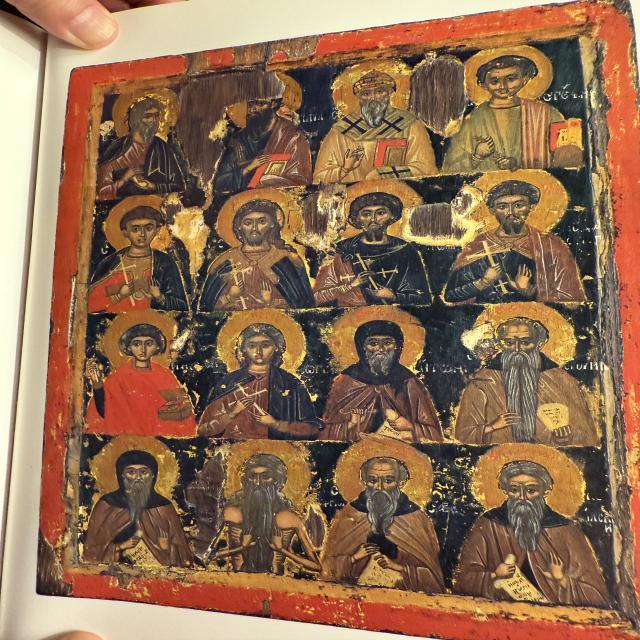aura: (472, 442, 586, 522), (327, 439, 441, 516), (467, 170, 569, 236), (331, 306, 429, 372), (477, 304, 576, 369), (214, 311, 310, 375), (91, 438, 183, 504), (223, 440, 312, 505), (465, 47, 555, 108), (101, 309, 185, 371), (341, 182, 425, 240), (218, 191, 305, 245), (333, 56, 413, 112), (103, 197, 177, 254), (110, 87, 179, 140)
book: (538, 119, 590, 155), (245, 156, 293, 191), (151, 386, 195, 423), (370, 136, 413, 172)
saint: (455, 444, 609, 608), (456, 303, 604, 445), (330, 441, 448, 593), (459, 171, 583, 299), (328, 309, 446, 441), (206, 305, 322, 438), (203, 441, 318, 575), (79, 435, 192, 565), (452, 50, 576, 165), (87, 310, 199, 433), (328, 182, 432, 302), (208, 191, 315, 307), (326, 63, 434, 176), (92, 197, 195, 309), (214, 74, 314, 184), (99, 84, 194, 192)
scroll: (492, 550, 550, 604), (353, 548, 407, 592), (117, 529, 165, 568), (527, 402, 573, 437), (379, 408, 417, 438)
